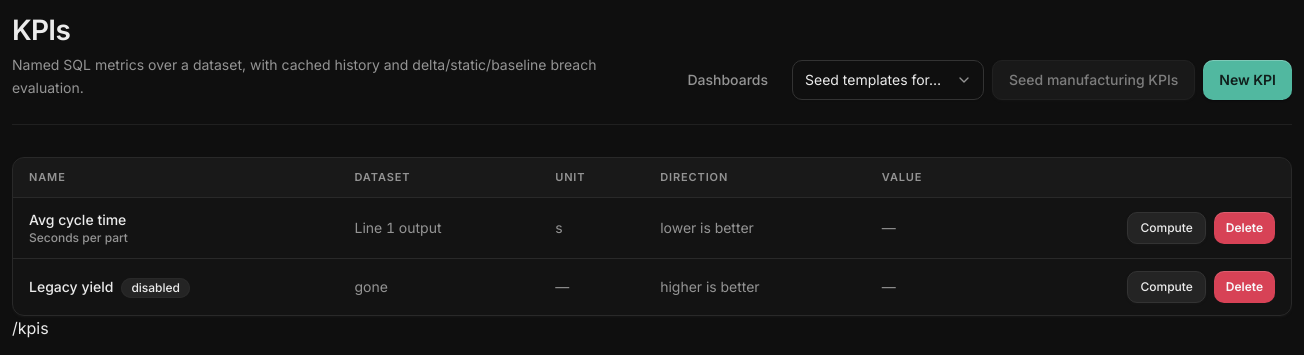
Test case: Kpis › lists KPIs with dataset names, units and direction
Expected: the text "Avg cycle time" is shown, [29,211,126,228]
Expected: the text "Seconds per part" is shown, [29,230,128,245]
Click the button "Dashboards" at [728, 80], box [672,60,784,100]
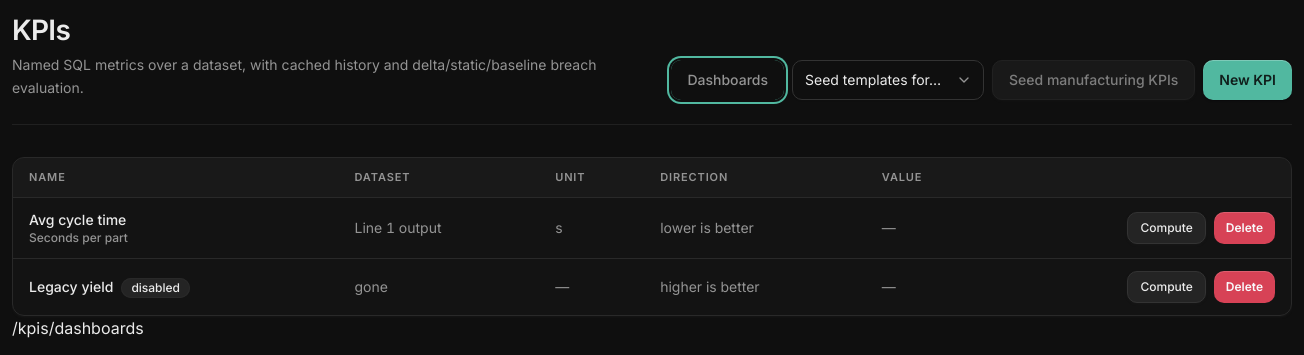
Now the text with test id "loc" reads "/kpis/dashboards", box [12,318,144,338]
